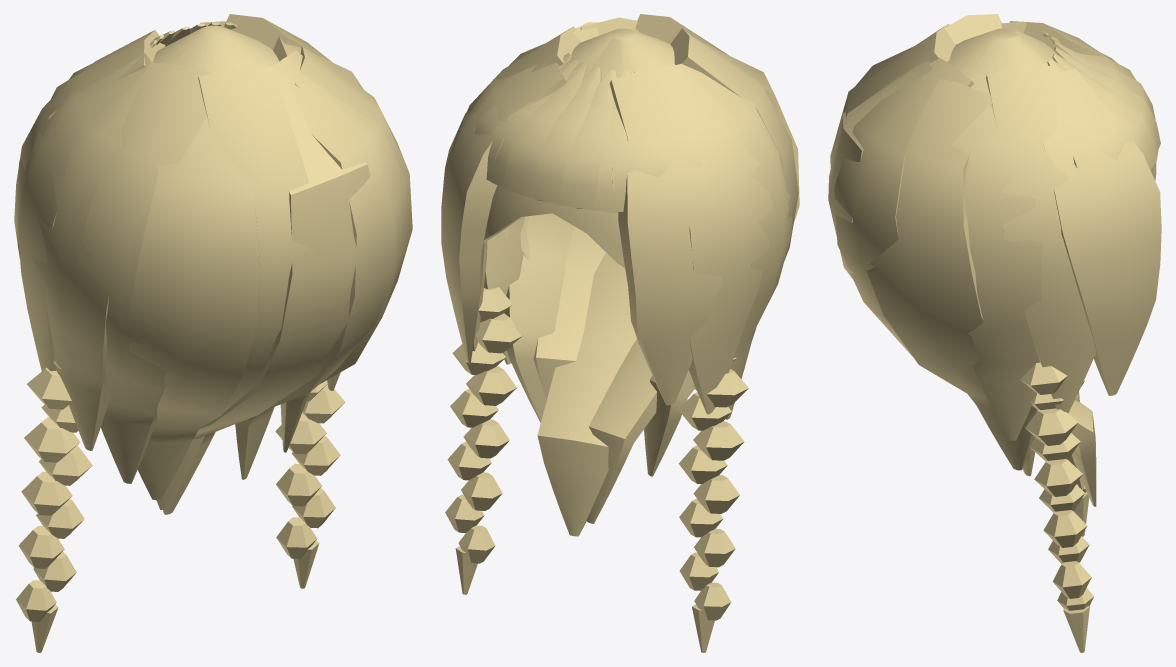
File: hair_7.fbx
The picture shows the model from 3 angles, left to right: view 1: azimuth 30°, elevation 25°; view 2: azimuth 150°, elevation 25°; view 3: azimuth 270°, elevation 25°; orthographic projection. The views are drawn at different scales.
Visible parts, largest first — view 1: Hair; view 2: Hair; view 3: Hair.
Part boxes in pixels (x1,y1,x2,y2): Hair: (14,14,412,652); Hair: (441,14,799,652); Hair: (828,14,1161,652).
Bounding box in the file's own units: 0.255 × 0.453 × 0.2443.
